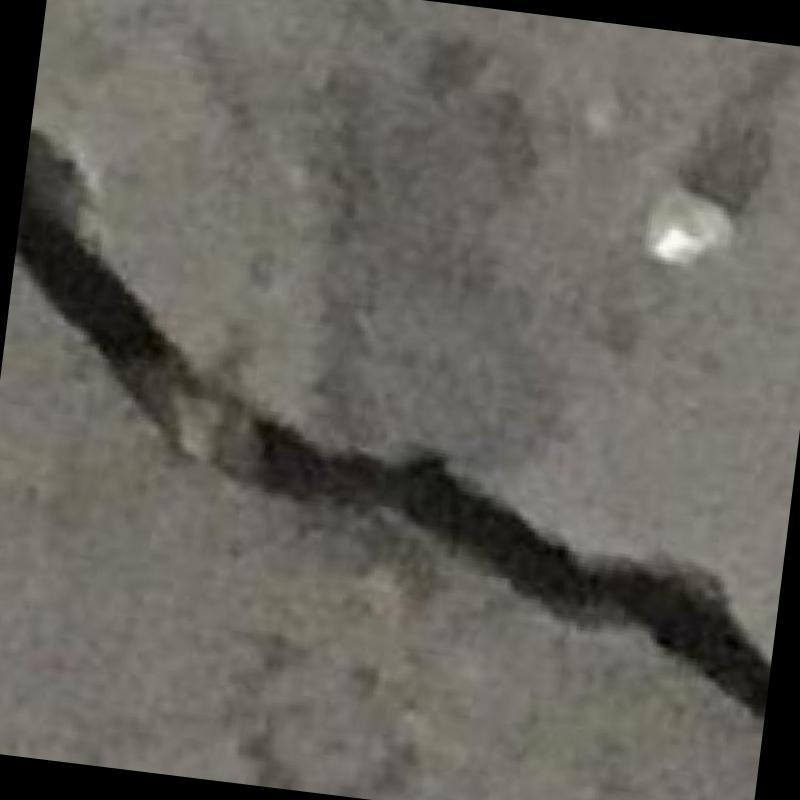pothole: (15, 129, 770, 717)
